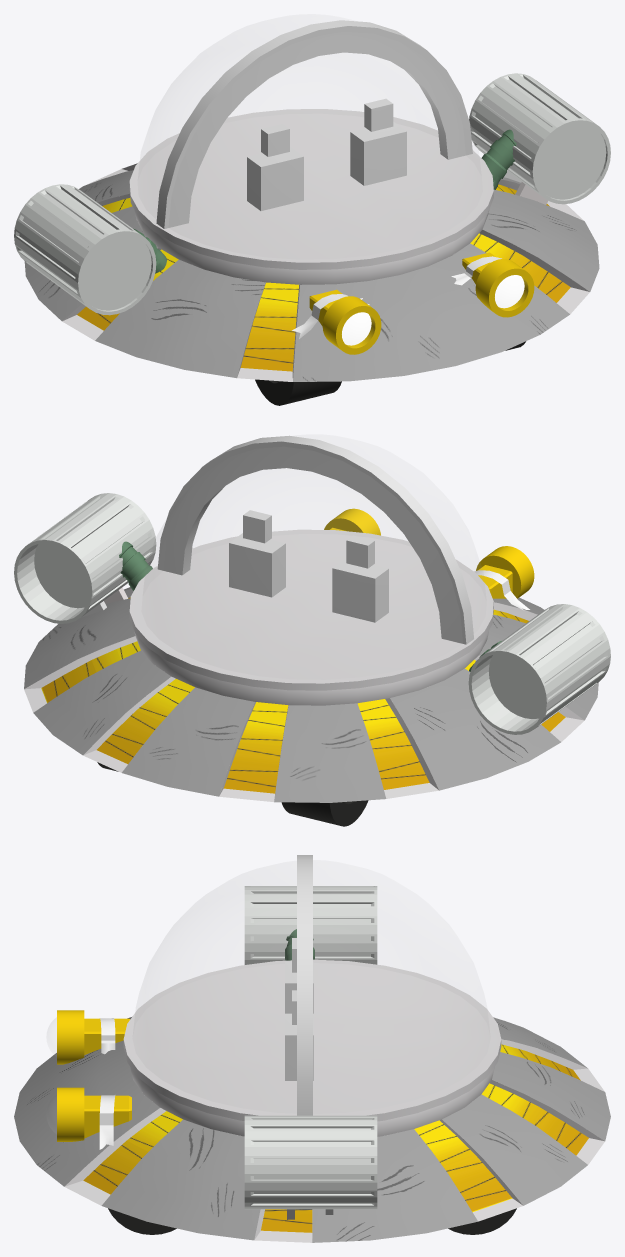
The model's file is rick-n-morty.glb.
3 renders of one model, top to bottom at view 1: azimuth 30°, elevation 25°; view 2: azimuth 150°, elevation 25°; view 3: azimuth 270°, elevation 25°, orthographic. The views are drawn at different scales.
Visible parts, largest first — view 1: Circle.002_Glass Rim_0, Circle_MetalWithScratches_0, Circle_Material.017_0, Cube.003_Lights_0; view 2: Circle.002_Glass Rim_0, Circle_MetalWithScratches_0, Circle_Material.017_0; view 3: Circle.002_Glass Rim_0, Circle_MetalWithScratches_0, Circle_Material.017_0.
Boxes of the visible parts, x1,y1,x2,y2 form: Circle.002_Glass Rim_0: [14, 20, 610, 405]; Circle_MetalWithScratches_0: [24, 170, 599, 381]; Circle_Material.017_0: [77, 184, 570, 371]; Cube.003_Lights_0: [342, 275, 524, 345]; Circle.002_Glass Rim_0: [14, 435, 610, 826]; Circle_MetalWithScratches_0: [24, 587, 598, 802]; Circle_Material.017_0: [41, 597, 565, 793]; Circle.002_Glass Rim_0: [57, 855, 604, 1242]; Circle_MetalWithScratches_0: [14, 1017, 610, 1242]; Circle_Material.017_0: [83, 1044, 588, 1232].
Size of the model in its own units: 213 by 112 by 200.
5 materials, 5 textured.
